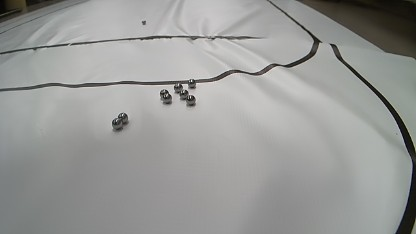ironball: (111, 117, 123, 130), (117, 112, 128, 124), (185, 94, 195, 105), (179, 89, 189, 99), (162, 93, 172, 103), (173, 83, 183, 92), (187, 78, 196, 88), (159, 89, 169, 98), (142, 20, 146, 25)
